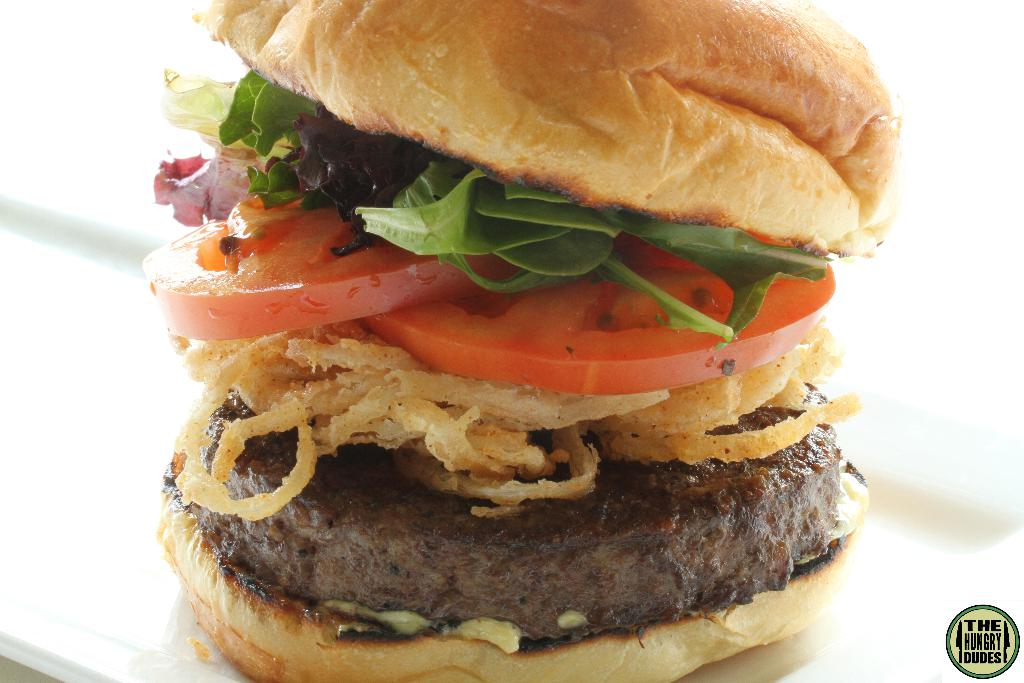Hamburger: (141, 0, 903, 682)
